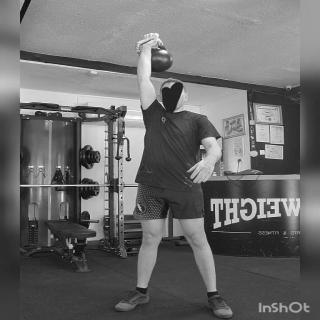kettlebell: (127, 36, 187, 76)
